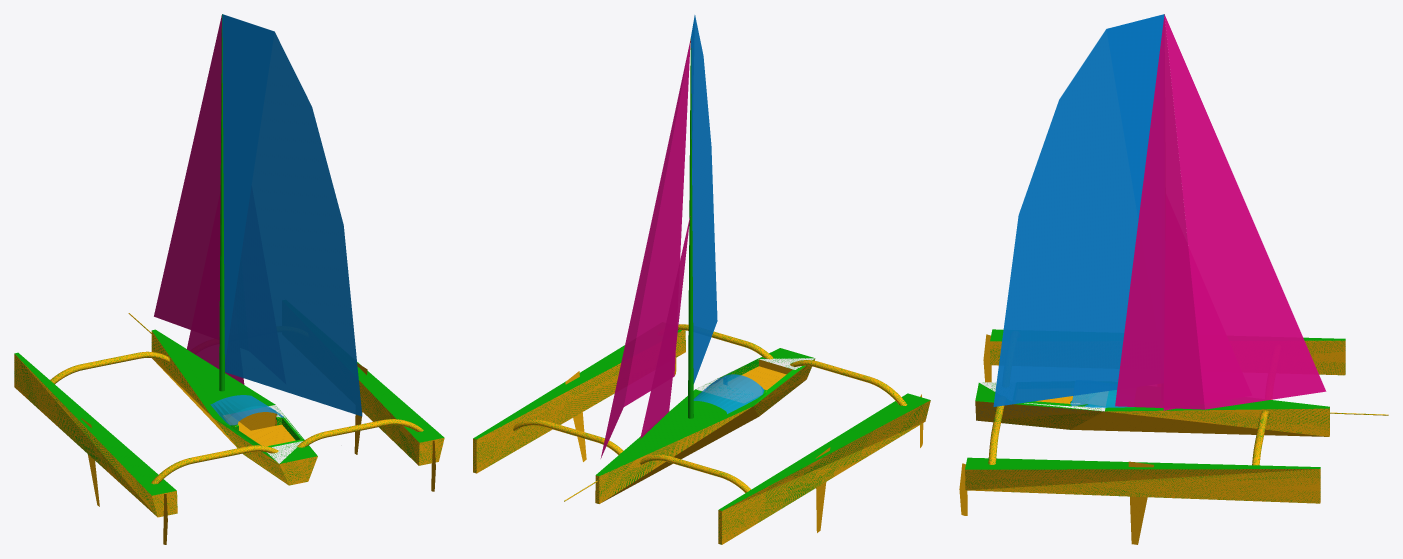
The model's file is genois_babord_trimaran.dae.
3 views of the same model, side by side, from view 1: azimuth 30°, elevation 25°; view 2: azimuth 150°, elevation 25°; view 3: azimuth 270°, elevation 25° (orthographic). The views are drawn at different scales.
Parts seen in each view (by area): view 1: SketchUp (×17); view 2: SketchUp (×18); view 3: SketchUp (×13).
Boxes of the visible parts, x1,y1,x2,y2 form: SketchUp (×17): [14, 14, 444, 517]; SketchUp (×18): [473, 15, 930, 544]; SketchUp (×13): [965, 14, 1345, 544].
Bounding box in the file's own units: 90181 × 111154 × 135024.
Materials: 21 (5 with a texture image).
